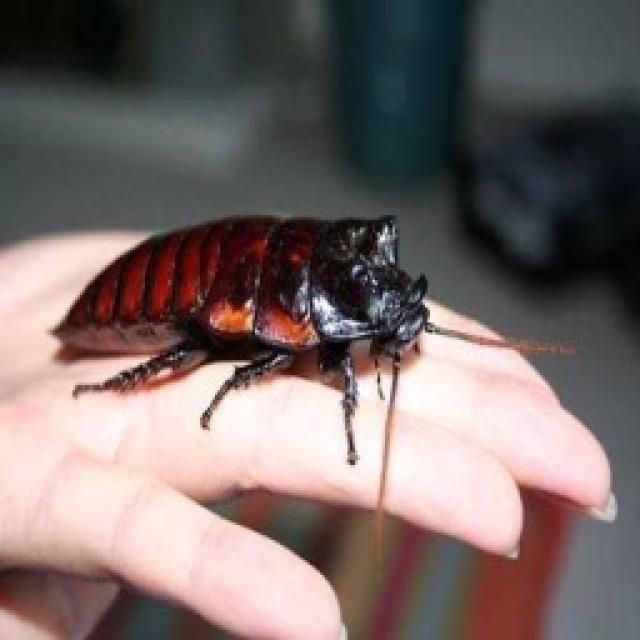cockroach: (44, 176, 489, 465)
